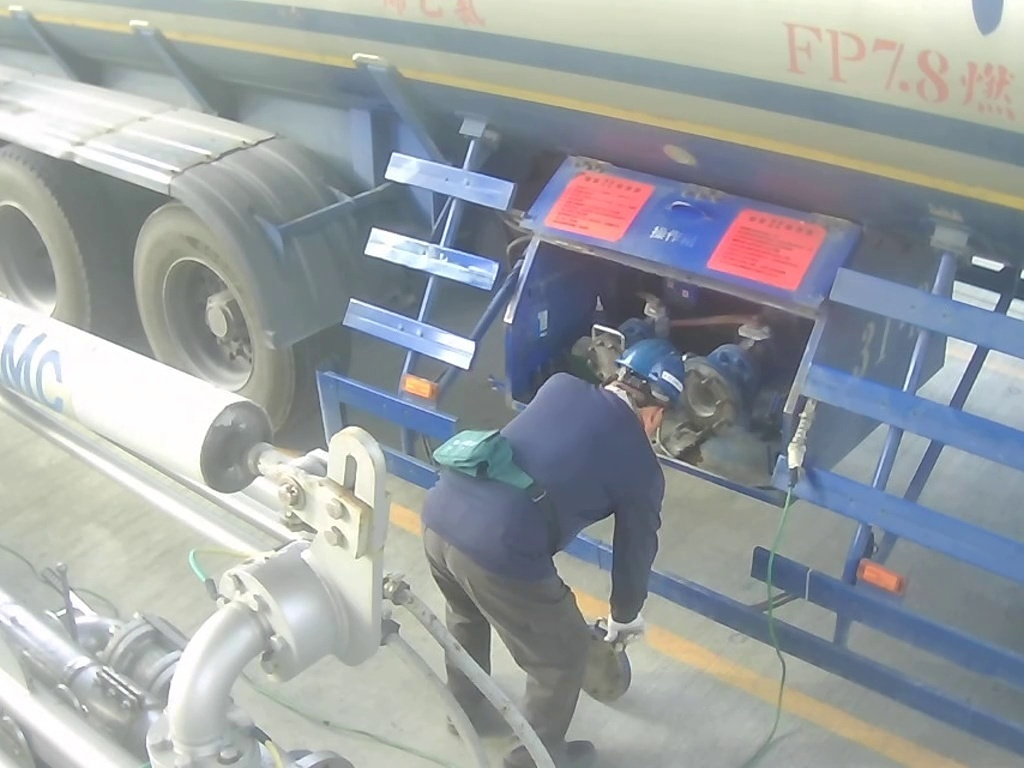helmet: (606, 330, 695, 435)
pack: (430, 423, 521, 489)
person: (410, 331, 706, 768)
